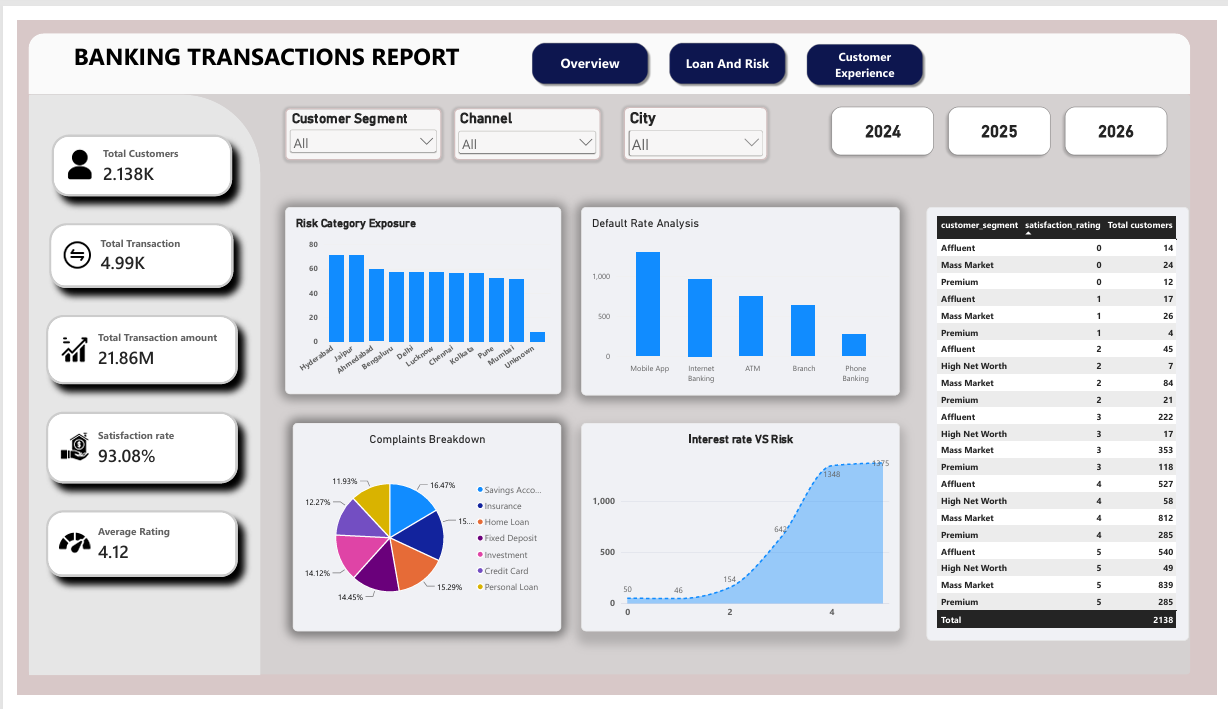

This screenshot's page, from the dashboard's own definition file:
{"tool":"powerbi","page":{"name":"Customer Experience","canvas":[1920,1080],"ordinal":2},"visuals":[{"type":"shape","box":[16.7,116.7,1860,930],"z":0},{"type":"shape","box":[17.5,117.5,370,930],"z":1000},{"type":"shape","box":[16.7,20,1860,96.7],"z":2000},{"type":"textbox","box":[42.5,30,710,75],"z":3000},{"type":"areaChart","title":"Interest rate VS Risk","fields":{"Category":["banking_analysis2 banking_data.satisfaction_rating"],"Y":["Count(banking_analysis2 banking_data.customer_id)"]},"box":[902,644,510,334],"z":4000},{"type":"cardVisual","fields":{"Data":["Count(banking_analysis2 banking_data.customer_id)"]},"box":[54.3,181.9,288.2,99.2],"z":5000},{"type":"cardVisual","fields":{"Data":["Count(banking_analysis2 banking_data.transaction_id)"]},"box":[49.6,324.3,295.3,104],"z":6000},{"type":"cardVisual","fields":{"Data":["Sum(banking_analysis2 banking_data.transaction_amount)"]},"box":[44.9,471.3,307.1,111],"z":7000},{"type":"cardVisual","fields":{"Data":["banking_analysis2 banking_data.Satisfaction rate"]},"box":[44.9,625.5,307.1,115.8],"z":8000},{"type":"cardVisual","fields":{"Data":["Avg(banking_analysis2 banking_data.satisfaction_rating)"]},"box":[44.9,784.4,307.1,106.3],"z":9000},{"type":"advancedSlicerVisual","fields":{"Values":["banking_analysis2 banking_data.transaction_date.Variation.Date Hierarchy.Year"]},"box":[1295,130,552.5,92.5],"z":10000},{"type":"slicer","fields":{"Values":["banking_analysis2 banking_data.customer_segment"]},"box":[427.5,140,250,82.5],"z":11000},{"type":"slicer","fields":{"Values":["banking_analysis2 banking_data.channel"]},"box":[697.5,140,235,82.5],"z":12000},{"type":"slicer","fields":{"Values":["banking_analysis2 banking_data.city"]},"box":[970,137.5,230,85],"z":13000},{"type":"actionButton","title":"Overview","box":[816,28,200,80],"z":14000},{"type":"actionButton","box":[1036,28,200,80],"z":15000},{"type":"actionButton","box":[1256,30,200,80],"z":16000},{"type":"pieChart","title":"Complaints Breakdown","fields":{"Category":["banking_analysis2 banking_data.product_type"],"Y":["banking_analysis2 banking_data.Total Complaints"]},"box":[440,644,430,334],"z":17000},{"type":"columnChart","title":"Risk Category Exposure","fields":{"Category":["banking_analysis2 banking_data.city"],"Y":["banking_analysis2 banking_data.Total Complaints"]},"box":[428,298,442,300],"z":18000},{"type":"clusteredColumnChart","title":"Default Rate Analysis","fields":{"Category":["banking_analysis2 banking_data.channel"],"Y":["Count(banking_analysis2 banking_data.customer_id)"]},"box":[902,298,510,302],"z":19000},{"type":"tableEx","fields":{"Values":["banking_analysis2 banking_data.customer_segment","banking_analysis2 banking_data.satisfaction_rating","Count(banking_analysis2 banking_data.customer_id)"]},"box":[1455,297.5,420,695],"z":20000}]}

Visuals, with their boxes in screenshot pixels (x1, y1, x2, y2), scaled from the page's 1920x1080 canvas onto the 1228x709 screenshot:
shape: (11, 77, 1200, 687)
shape: (11, 77, 248, 688)
shape: (11, 13, 1200, 77)
textbox: (27, 20, 481, 69)
"Interest rate VS Risk" areaChart: (577, 423, 903, 642)
cardVisual - Count(banking_analysis2 banking_data.customer_id): (35, 119, 219, 185)
cardVisual - Count(banking_analysis2 banking_data.transaction_id): (32, 213, 221, 281)
cardVisual - Sum(banking_analysis2 banking_data.transaction_amount): (29, 309, 225, 382)
cardVisual - banking_analysis2 banking_data.Satisfaction rate: (29, 411, 225, 487)
cardVisual - Avg(banking_analysis2 banking_data.satisfaction_rating): (29, 515, 225, 585)
advancedSlicerVisual - banking_analysis2 banking_data.transaction_date.Variation.Date Hierarchy.Year: (828, 85, 1182, 146)
slicer - banking_analysis2 banking_data.customer_segment: (273, 92, 433, 146)
slicer - banking_analysis2 banking_data.channel: (446, 92, 596, 146)
slicer - banking_analysis2 banking_data.city: (620, 90, 767, 146)
"Overview" actionButton: (522, 18, 650, 71)
actionButton: (663, 18, 791, 71)
actionButton: (803, 20, 931, 72)
"Complaints Breakdown" pieChart: (281, 423, 556, 642)
"Risk Category Exposure" columnChart: (274, 196, 556, 393)
"Default Rate Analysis" clusteredColumnChart: (577, 196, 903, 394)
tableEx - banking_analysis2 banking_data.customer_segment x banking_analysis2 banking_data.satisfaction_rating: (931, 195, 1199, 652)
